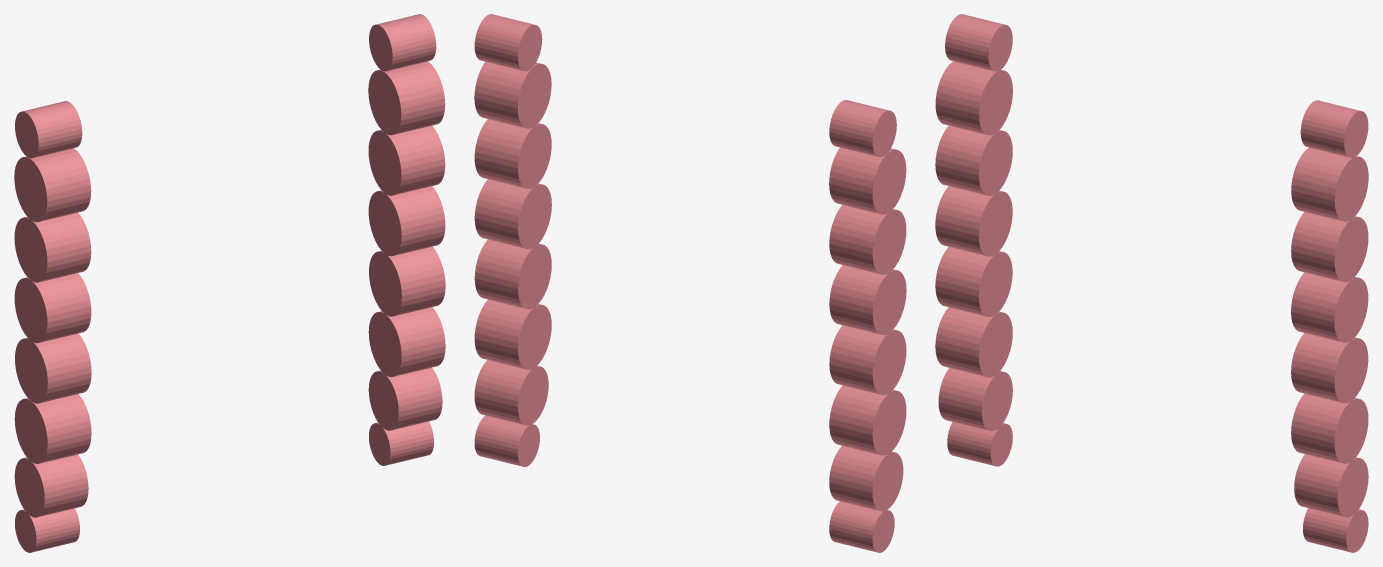
The model's file is roti.fbx.
3 renders of one model, left to right at view 1: azimuth 30°, elevation 25°; view 2: azimuth 150°, elevation 25°; view 3: azimuth 330°, elevation 25°, orthographic.
Parts seen in each view (by area): view 1: Cylinder.004; view 2: Cylinder.004; view 3: Cylinder.004.
Part boxes in pixels (x1,y1,x2,y2): Cylinder.004: (14,14,445,552); Cylinder.004: (474,14,906,552); Cylinder.004: (935,14,1368,552).
Bounding box in the file's own units: 477 × 502 × 71.76.
